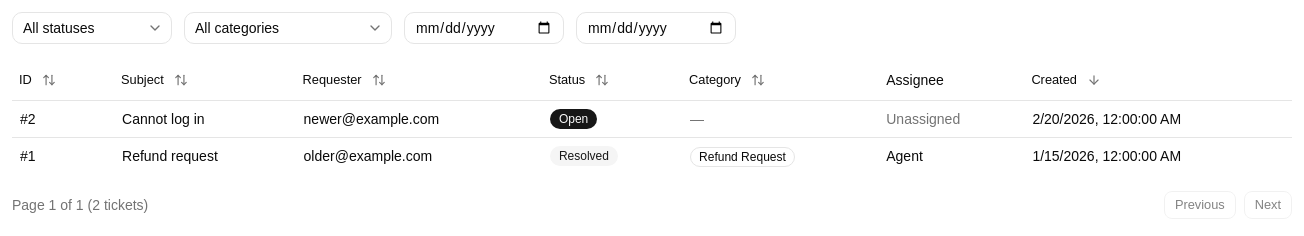
TicketsTable › re-requests with the clicked column's sortBy, ascending on the first click, and re-renders whatever the server sends back
The width and height of the screenshot is (1304, 236).
Check: the table is shown, box [12,60,1292,174]
Step 1. Click the button "Subject" → {"x": 154, "y": 80}, box [110,64,199,96]
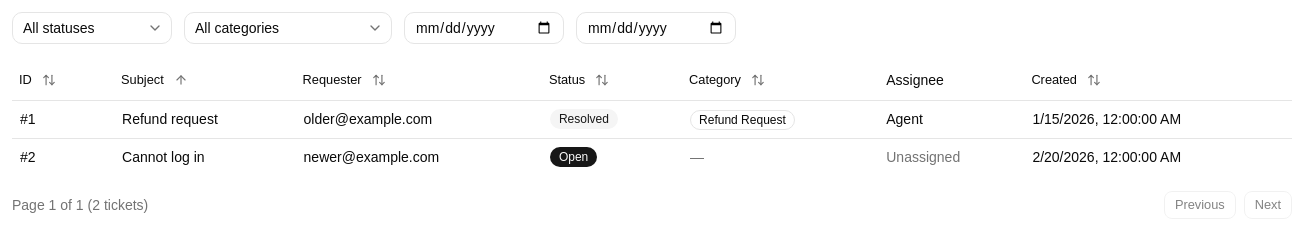
Check: the row that starts with "Refund request" is shown, box [122,111,218,127]
Check: the row that starts with "Cannot log in" is shown, box [122,148,204,164]
